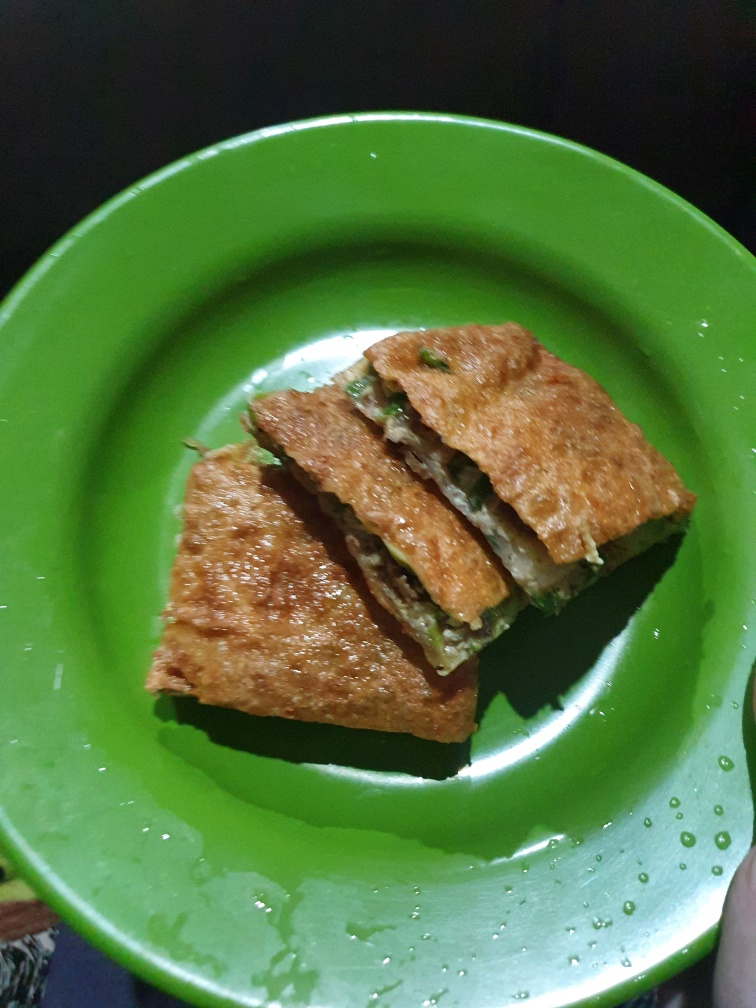martabak telor: (142, 443, 493, 751), (248, 366, 605, 649), (342, 304, 692, 590)
